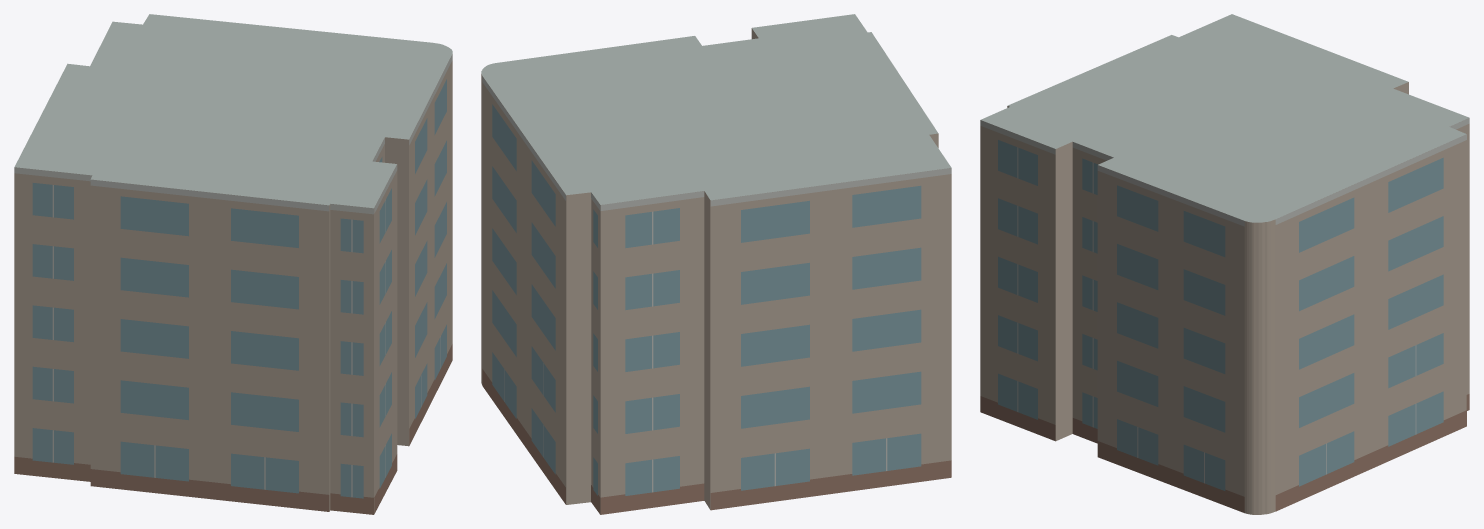
Rendered from survey-upis-32655639.glb.
3 renders of one model, left to right at view 1: azimuth 30°, elevation 25°; view 2: azimuth 150°, elevation 25°; view 3: azimuth 270°, elevation 25°, orthographic. The views are drawn at different scales.
Visible parts, largest first — view 1: survey-upis-32655639.tmp; view 2: survey-upis-32655639.tmp; view 3: survey-upis-32655639.tmp.
Boxes of the visible parts, bbox=[...] form: survey-upis-32655639.tmp: bbox=[14, 14, 452, 514]; survey-upis-32655639.tmp: bbox=[481, 14, 951, 514]; survey-upis-32655639.tmp: bbox=[980, 14, 1469, 514].
Size of the model in its own units: 18.86 by 12.31 by 18.69.
